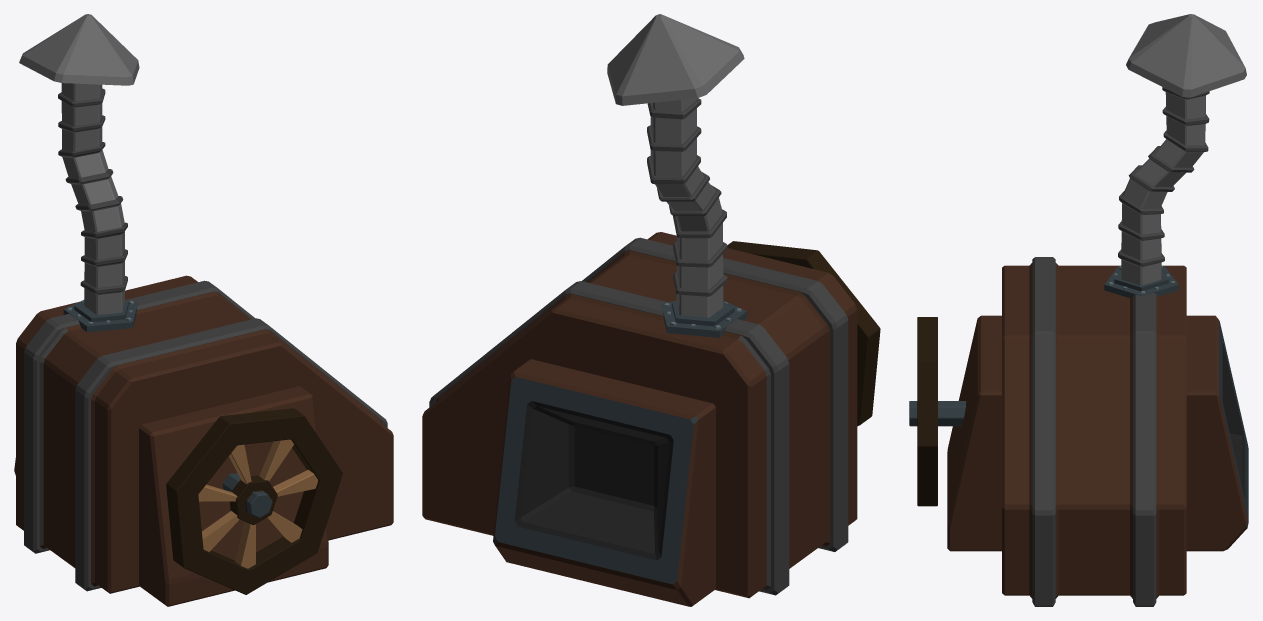
File: machine_machine.fbx
3 renders of one model, left to right at view 1: azimuth 30°, elevation 25°; view 2: azimuth 150°, elevation 25°; view 3: azimuth 270°, elevation 25°, orthographic. The views are drawn at different scales.
Parts seen in each view (by area): view 1: curve gen v2.001; view 2: curve gen v2.001; view 3: curve gen v2.001.
Boxes of the visible parts, x1,y1,x2,y2 form: curve gen v2.001: [14, 14, 393, 606]; curve gen v2.001: [422, 14, 880, 606]; curve gen v2.001: [909, 14, 1248, 606].
Bounding box in the file's own units: 2.12 × 3.33 × 2.1.
